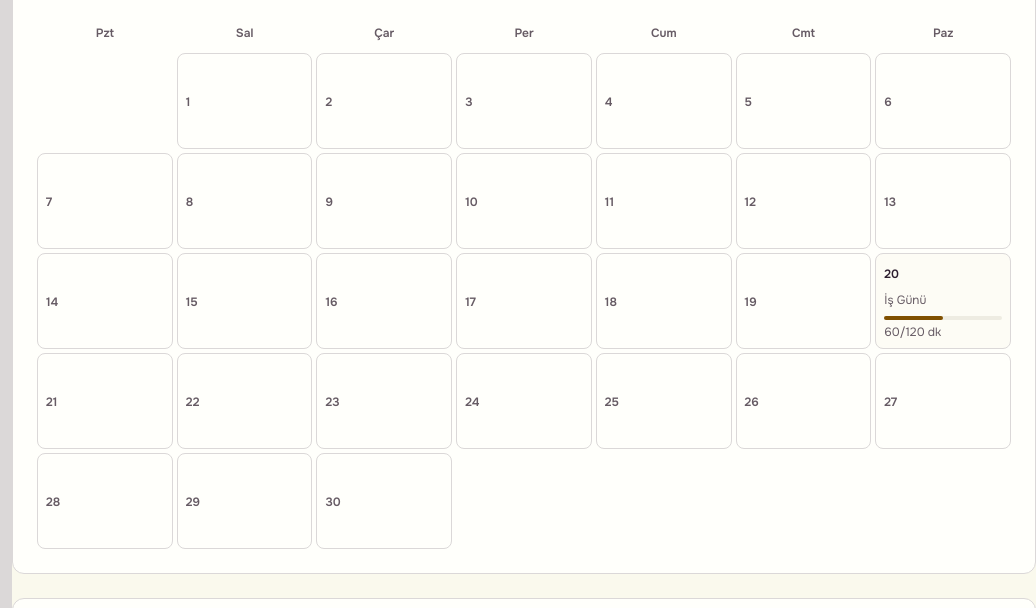
Test case: opens a daily snapshot from the calendar
Click the button "20 İş Günü 60/120 dk": (943, 301) top-left (875, 253), bottom-right (1011, 349)
(page scrolled)
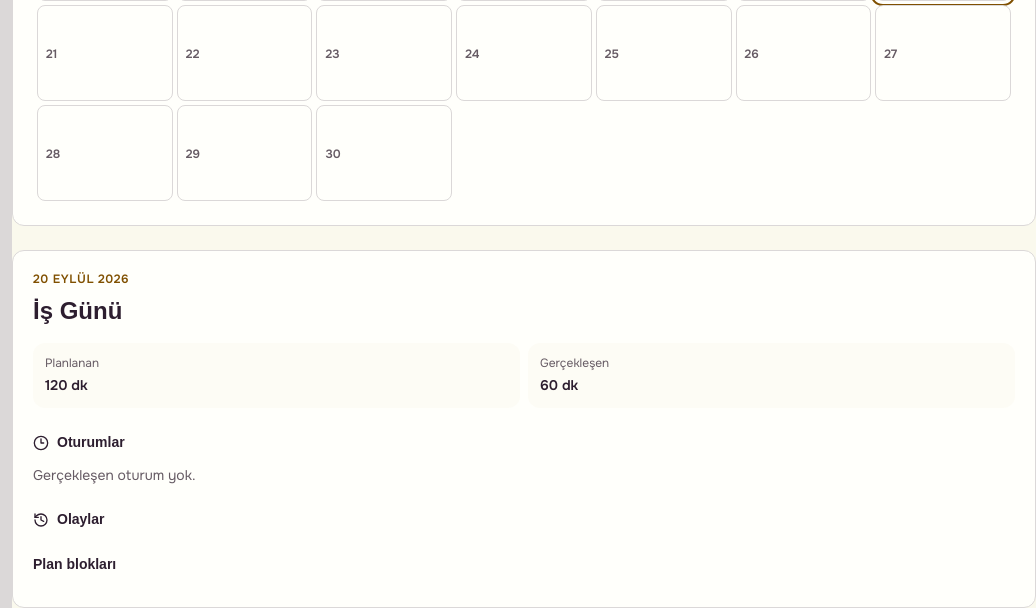
Result: the heading "İş Günü" is shown at top-left (33, 297), bottom-right (122, 324)
Result: the text "60 dk" is shown at top-left (540, 376), bottom-right (578, 394)
